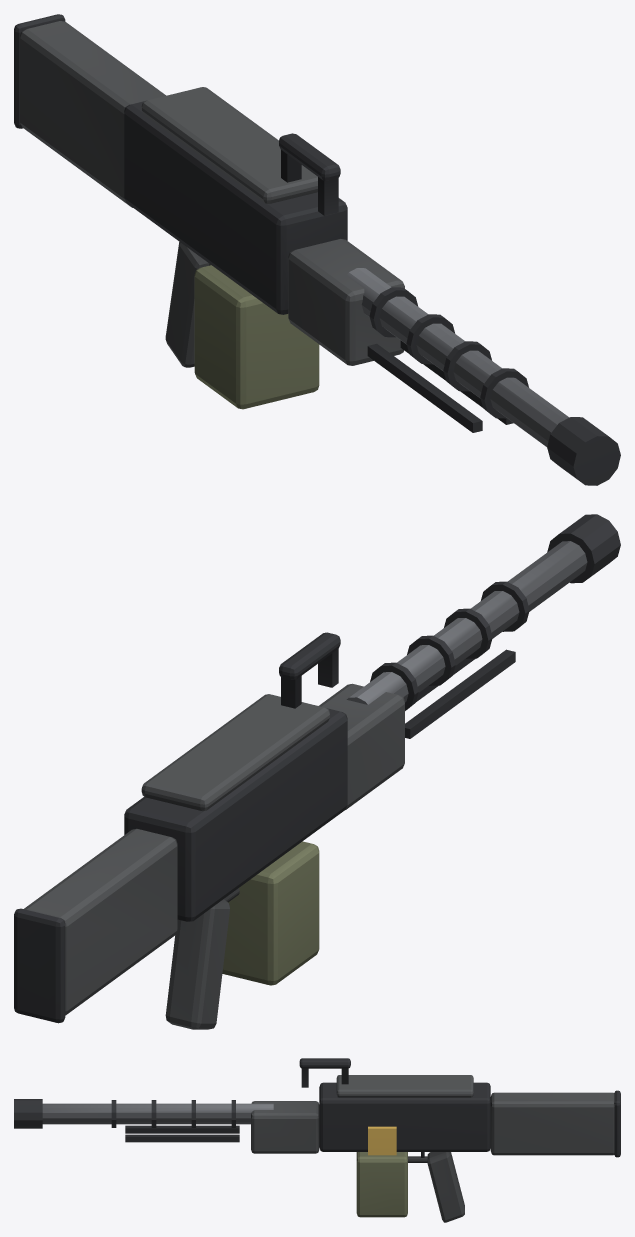
The model's file is grinder_lmg.glb.
The picture shows the model from 3 angles, top to bottom: view 1: azimuth 30°, elevation 25°; view 2: azimuth 150°, elevation 25°; view 3: azimuth 270°, elevation 25°; orthographic projection. The views are drawn at different scales.
Visible parts, largest first — view 1: grinder_lmg, mag; view 2: grinder_lmg, mag; view 3: grinder_lmg, mag.
Boxes of the visible parts, left/top/right/bottom form: grinder_lmg: left=14, top=14, right=620, bottom=485; mag: left=194, top=265, right=319, bottom=409; grinder_lmg: left=14, top=514, right=620, bottom=1029; mag: left=222, top=841, right=319, bottom=985; grinder_lmg: left=14, top=1058, right=620, bottom=1222; mag: left=356, top=1152, right=407, bottom=1217.
Bounding box in the file's own units: 0.0923 × 0.3097 × 1.06.
